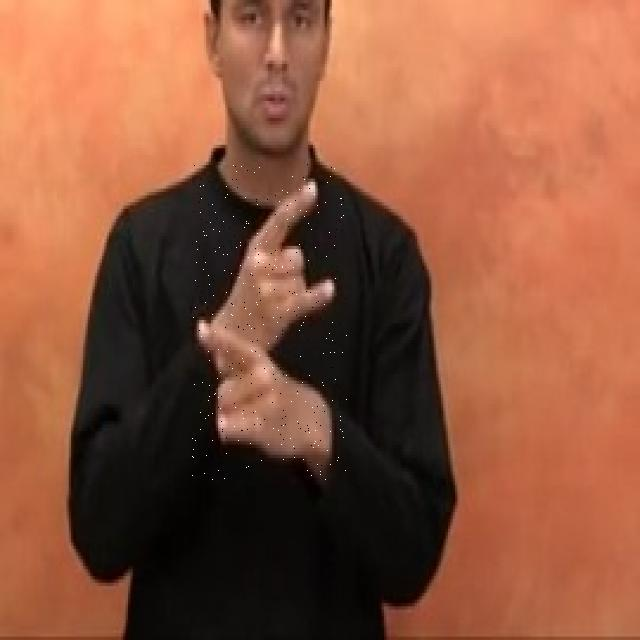alcohol: (192, 164, 347, 482)
